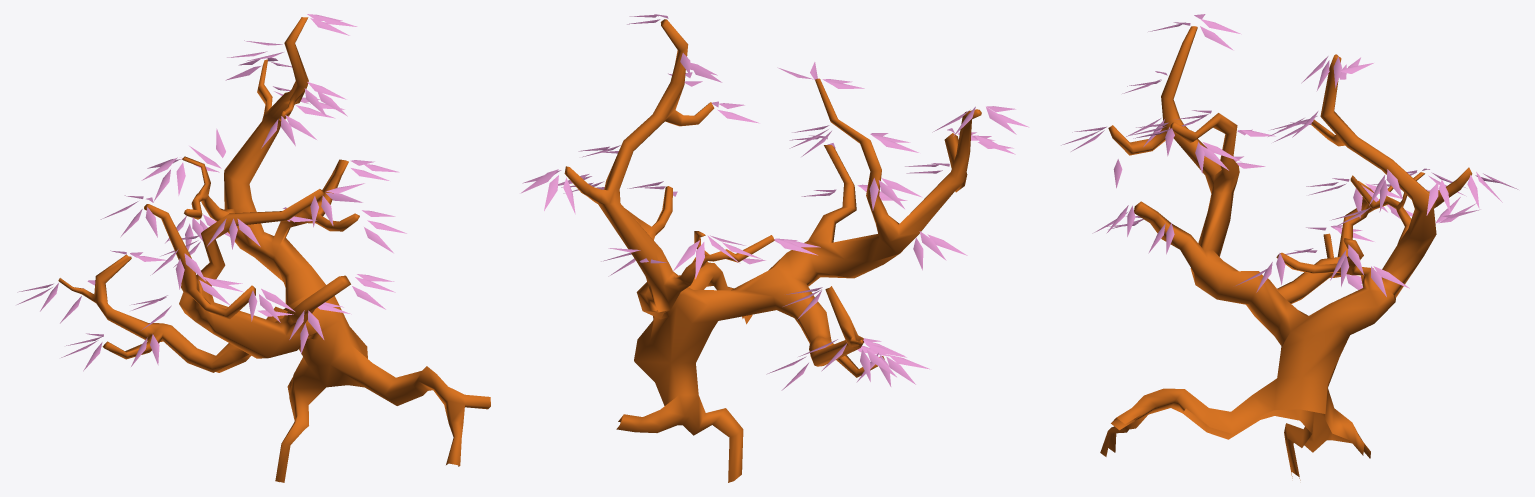
The model's file is baum04.FBX.
3 renders of one model, left to right at view 1: azimuth 30°, elevation 25°; view 2: azimuth 150°, elevation 25°; view 3: azimuth 270°, elevation 25°, orthographic. The views are drawn at different scales.
Visible parts, largest first — view 1: baum04; view 2: baum04; view 3: baum04.
Part boxes in pixels (bbox=[...]): baum04: bbox=[17, 14, 490, 482]; baum04: bbox=[520, 14, 1029, 482]; baum04: bbox=[1061, 14, 1518, 480].
Bounding box in the file's own units: 44.34 × 51.06 × 47.55.
